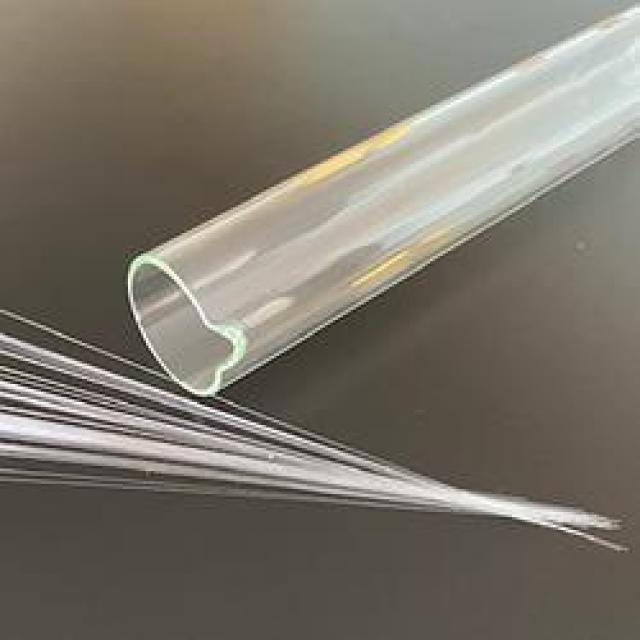glass: (123, 0, 640, 402)
